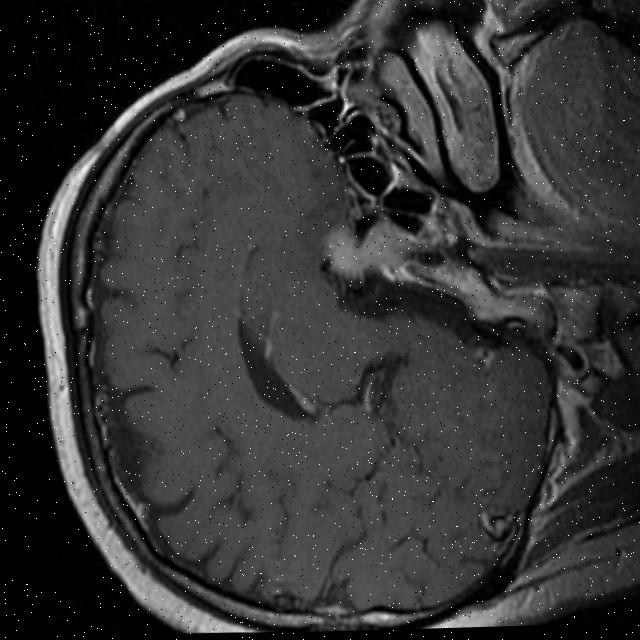Pituitary: (320, 215, 409, 282)
